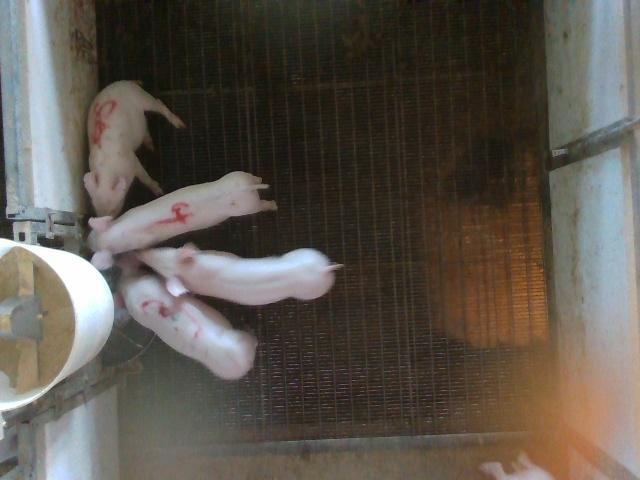pig-3: (119, 275, 258, 379)
pig-4: (88, 171, 275, 269)
pig-5: (84, 81, 185, 217)
